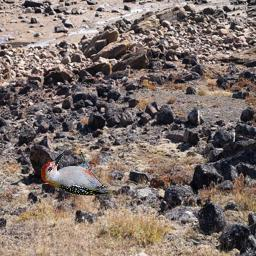Woodpecker: (41, 152, 113, 196)
